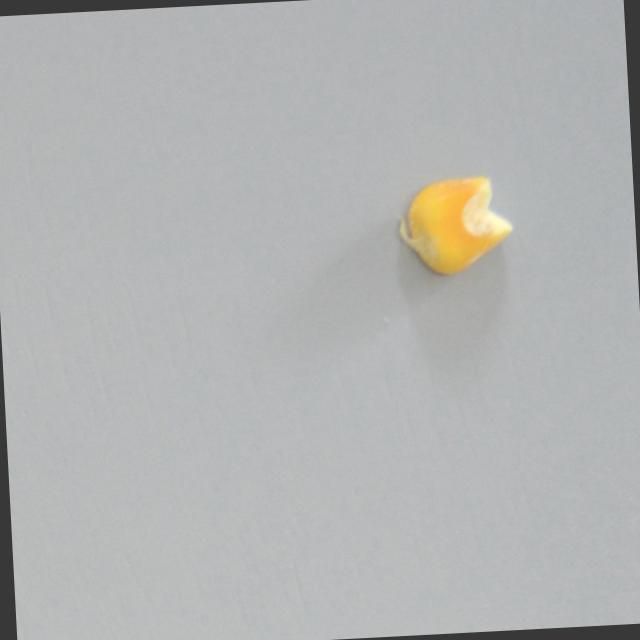pelicula: (392, 173, 519, 281)
